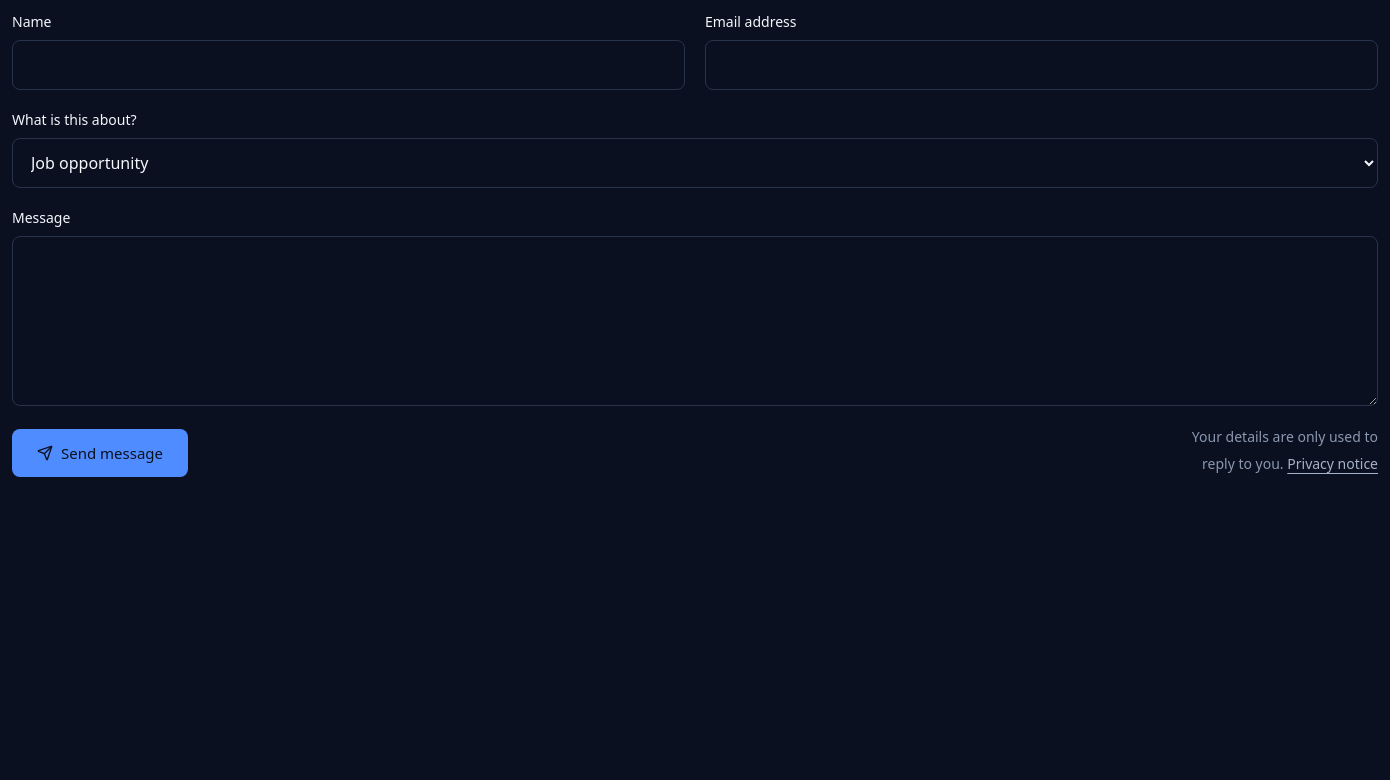
Test: ContactForm › shows a recoverable error and keeps the message when the service rejects it
The width and height of the screenshot is (1390, 780).
Type "Amina Otieno" into the field labelled "Name".
click(348, 65); type("Amina Otieno")  # box [12, 40, 685, 90]
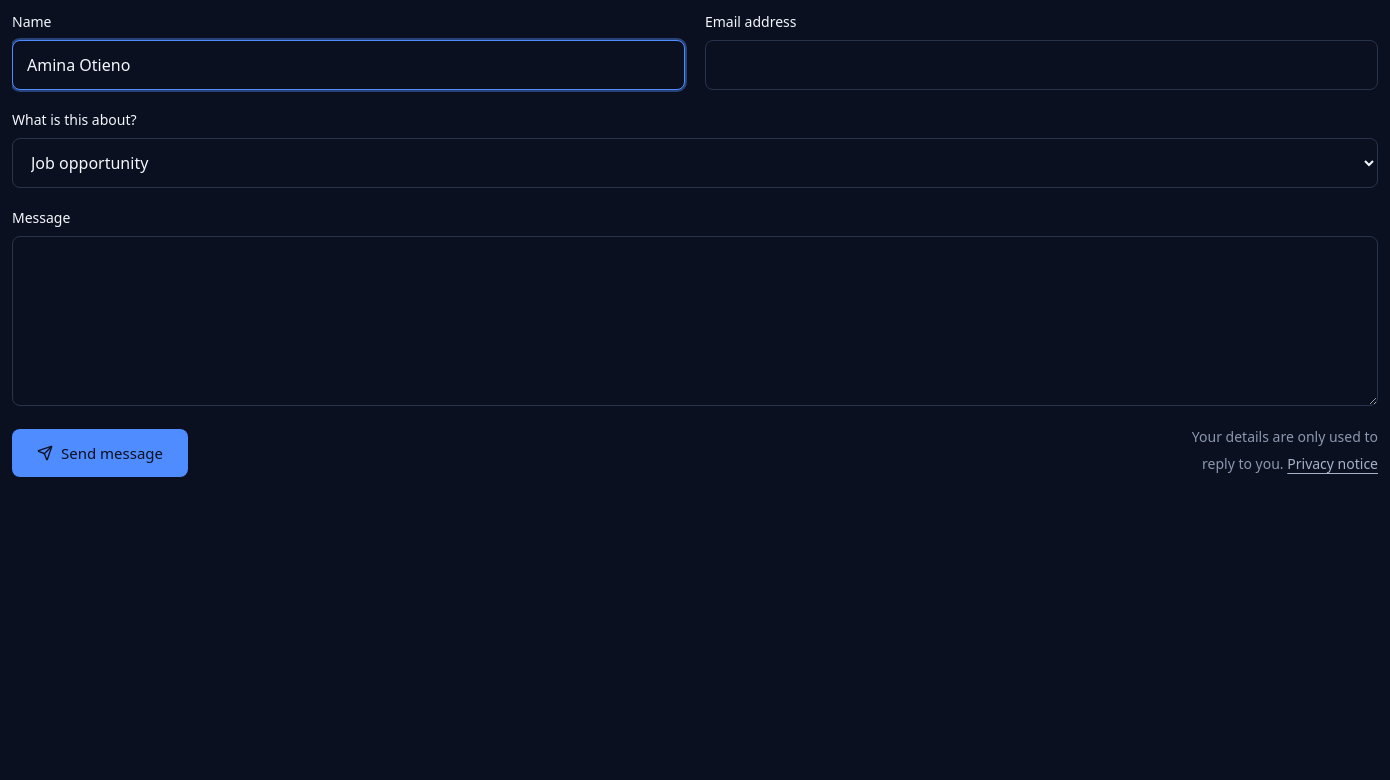
Type "amina@example.com" into the field labelled "Email address".
click(1042, 65); type("amina@example.com")  # box [705, 40, 1378, 90]
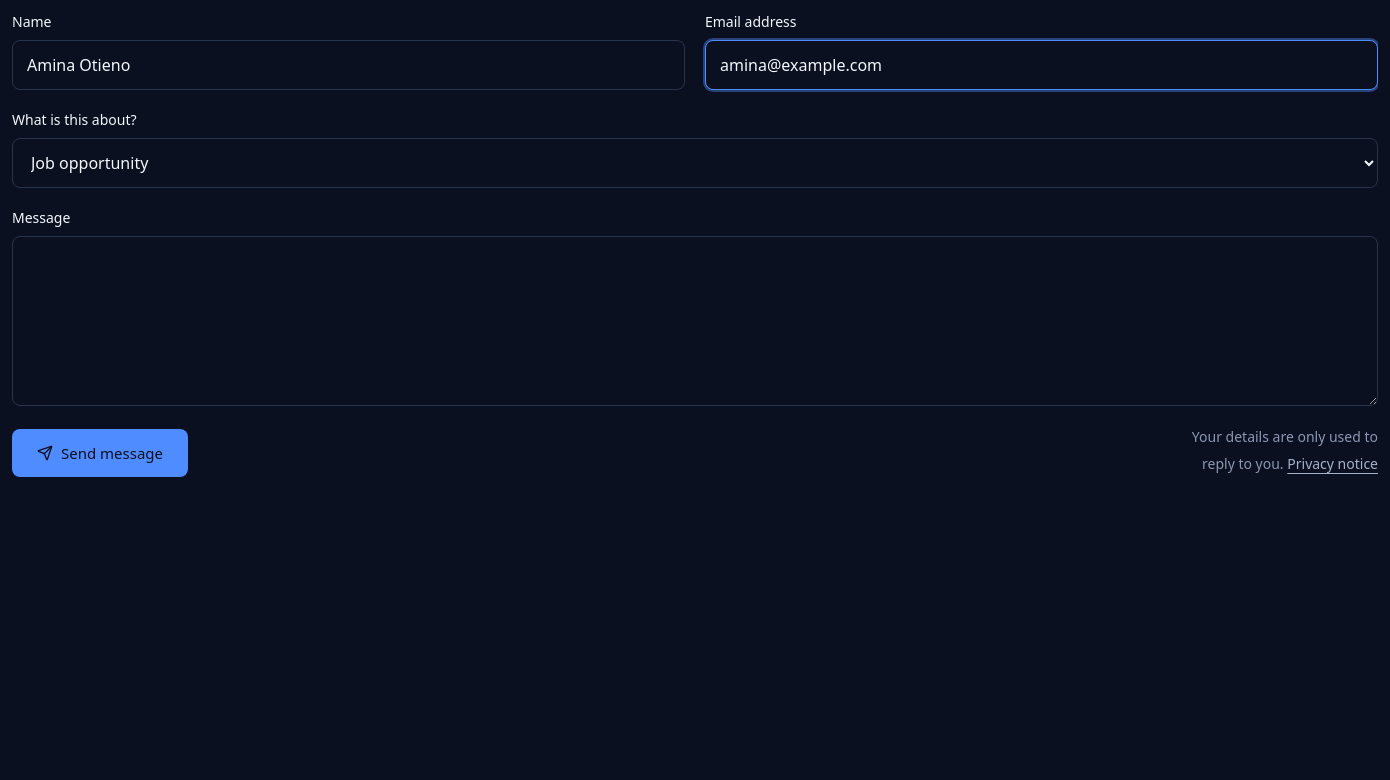
Type "I would like to talk about a role." into the text box labelled "Message".
click(695, 321); type("I would like to talk about a role.")  # box [12, 236, 1378, 406]
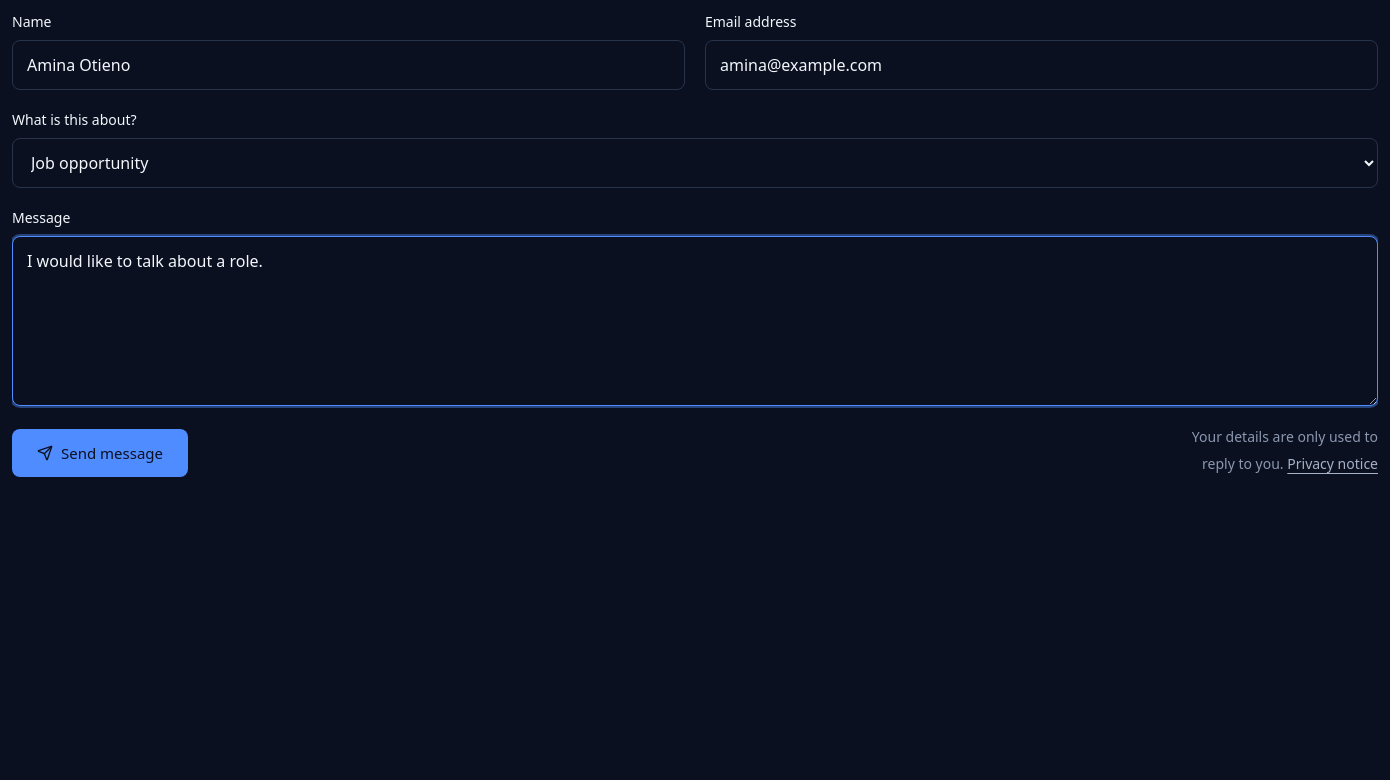
Click the button "Send message".
click(100, 453)  # box [12, 429, 188, 477]
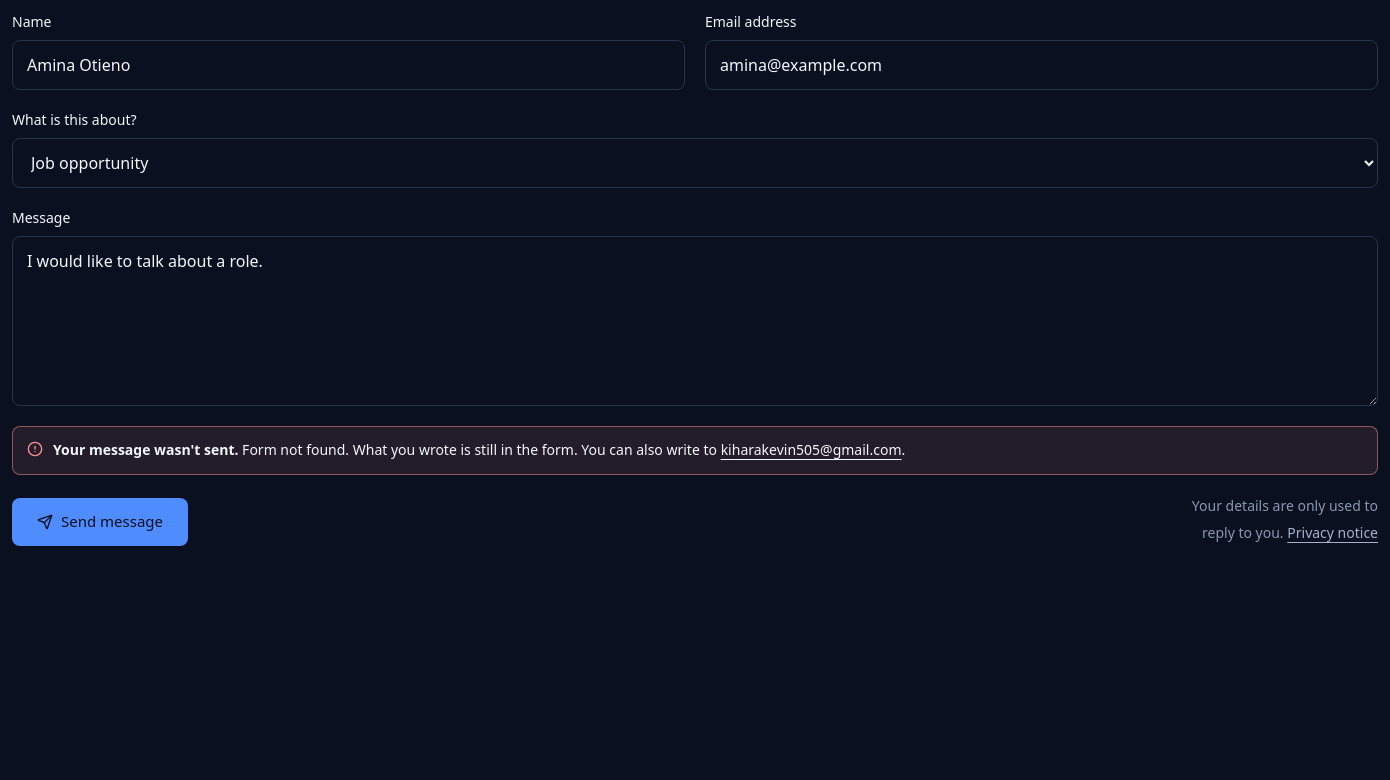
Expected: the button "Send message" is enabled, [12, 498, 188, 546]
Expected: the message shows "Your message wasn't sent.", [53, 440, 238, 459]
Expected: the message shows "Form not found.", [242, 440, 349, 459]
